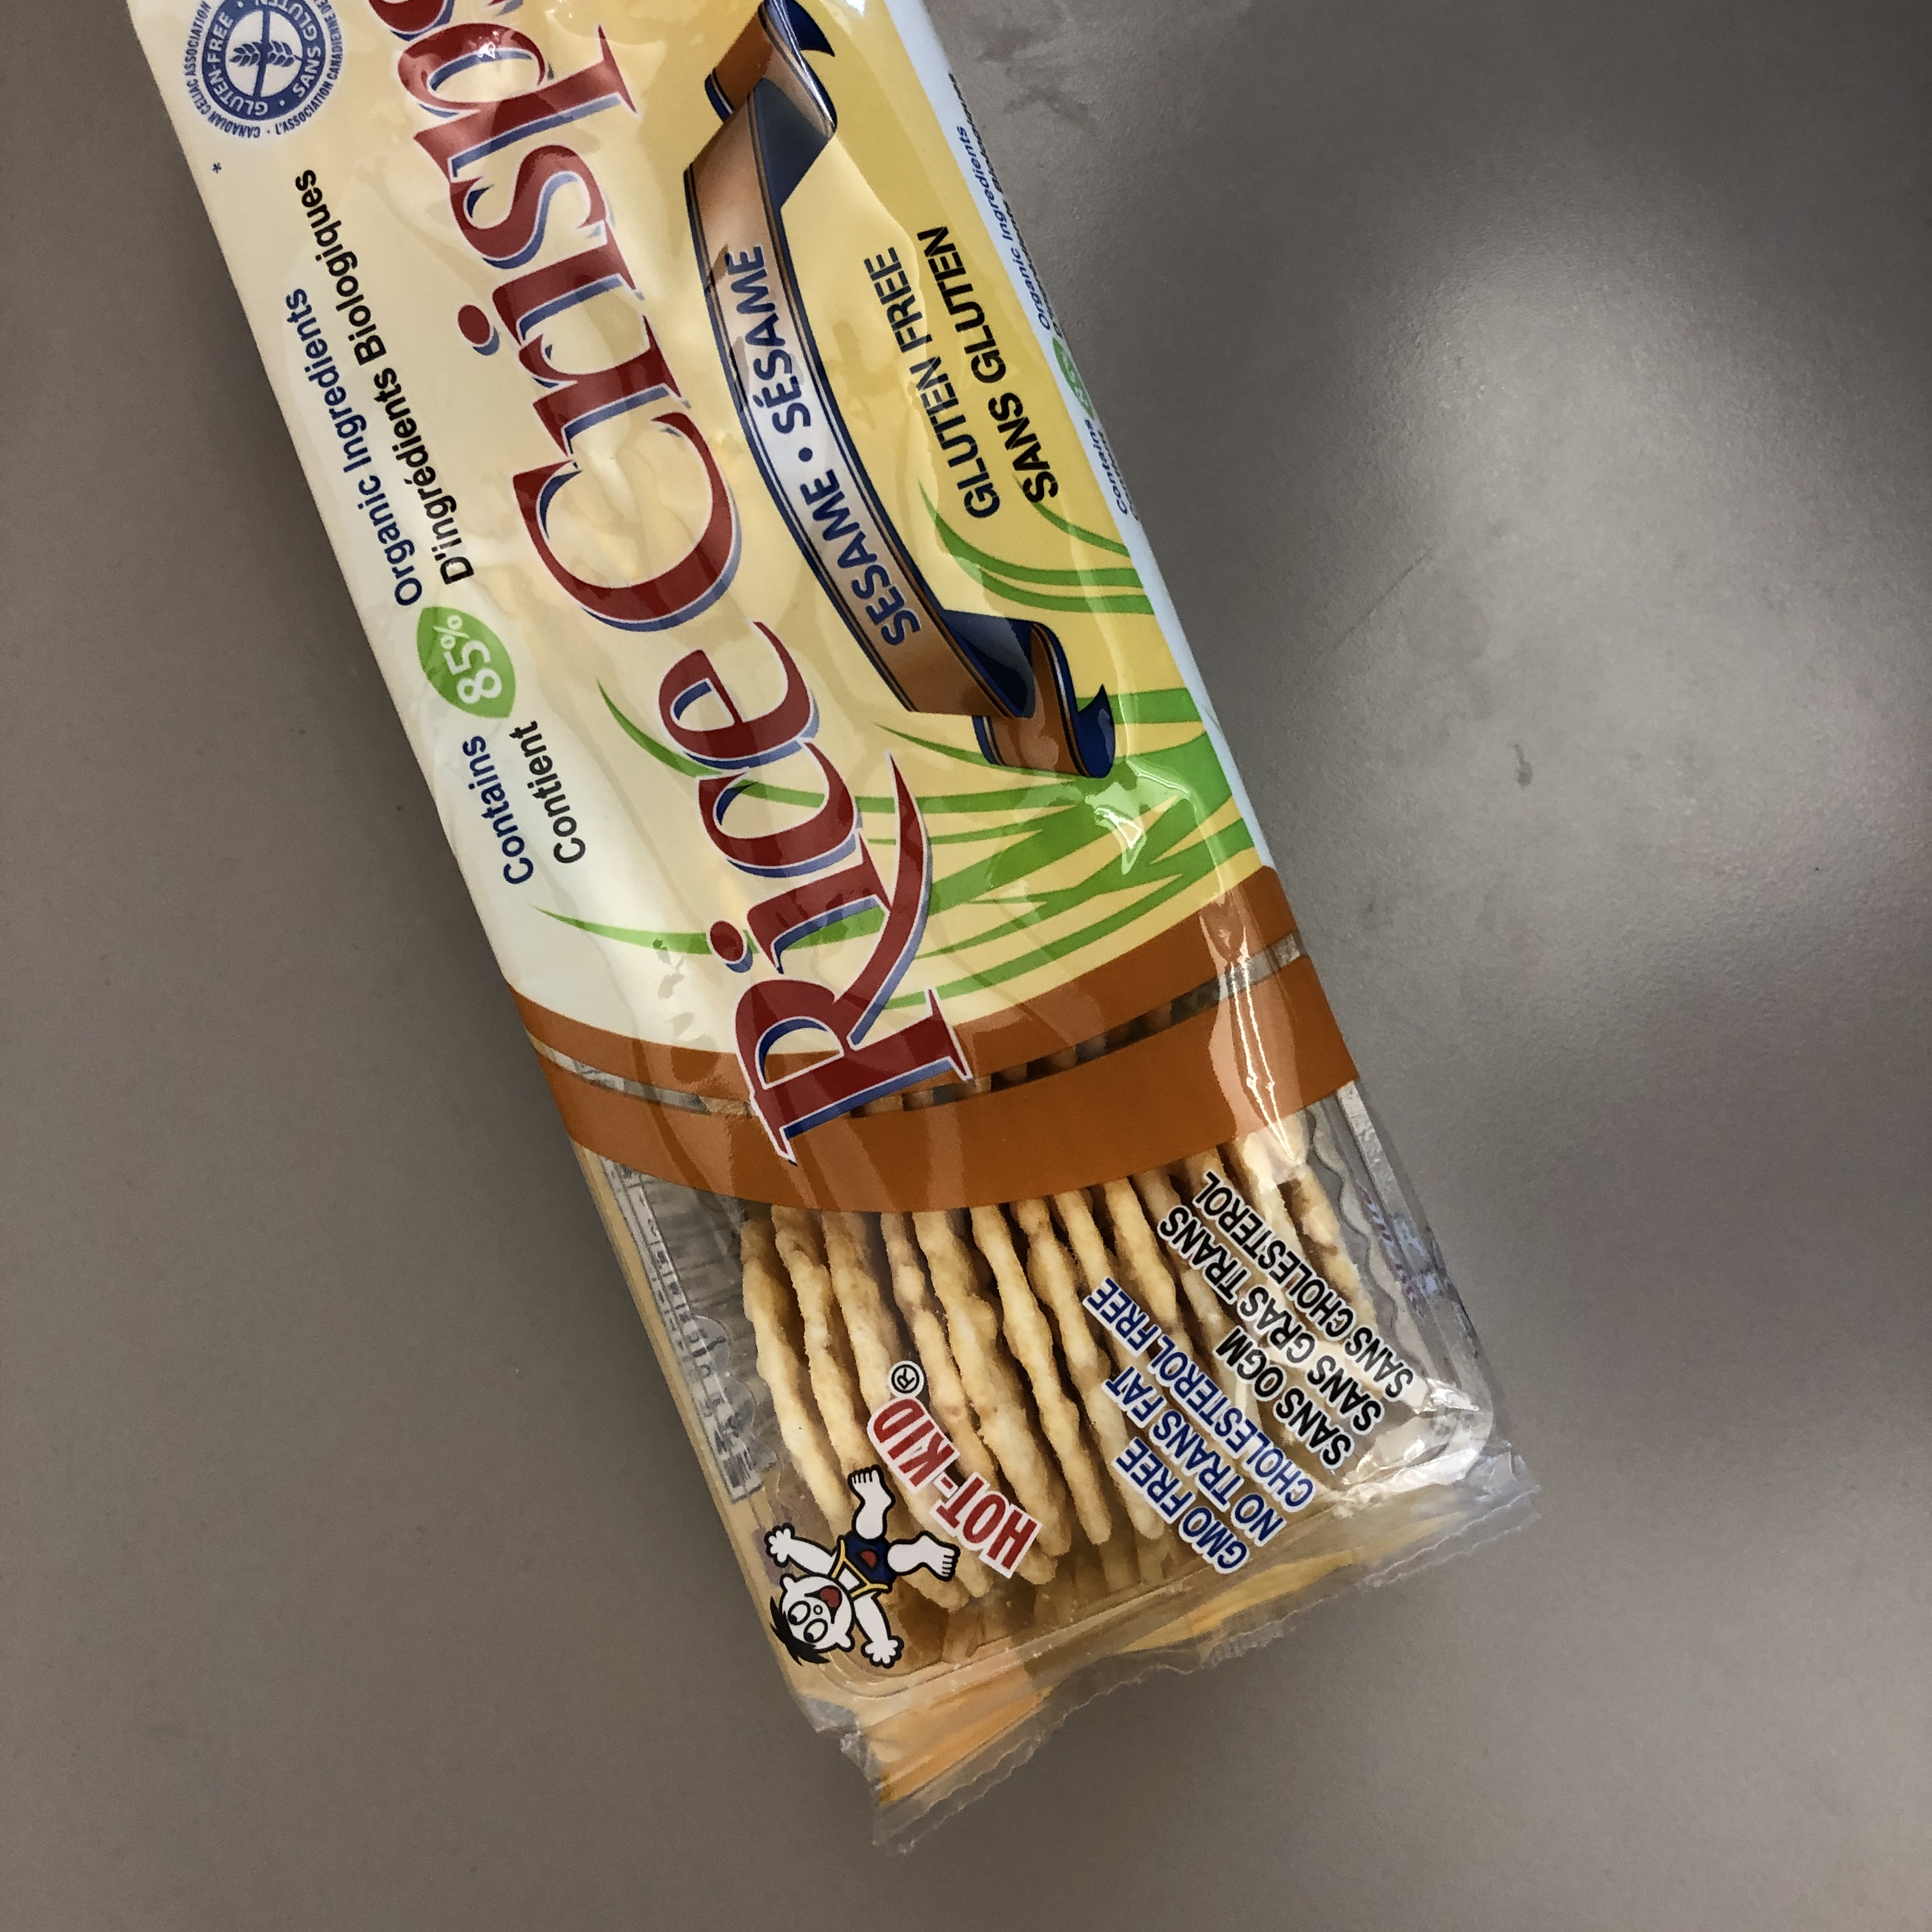hot_kid_rice_crisps_sesame: (1, 767, 1563, 1544)
